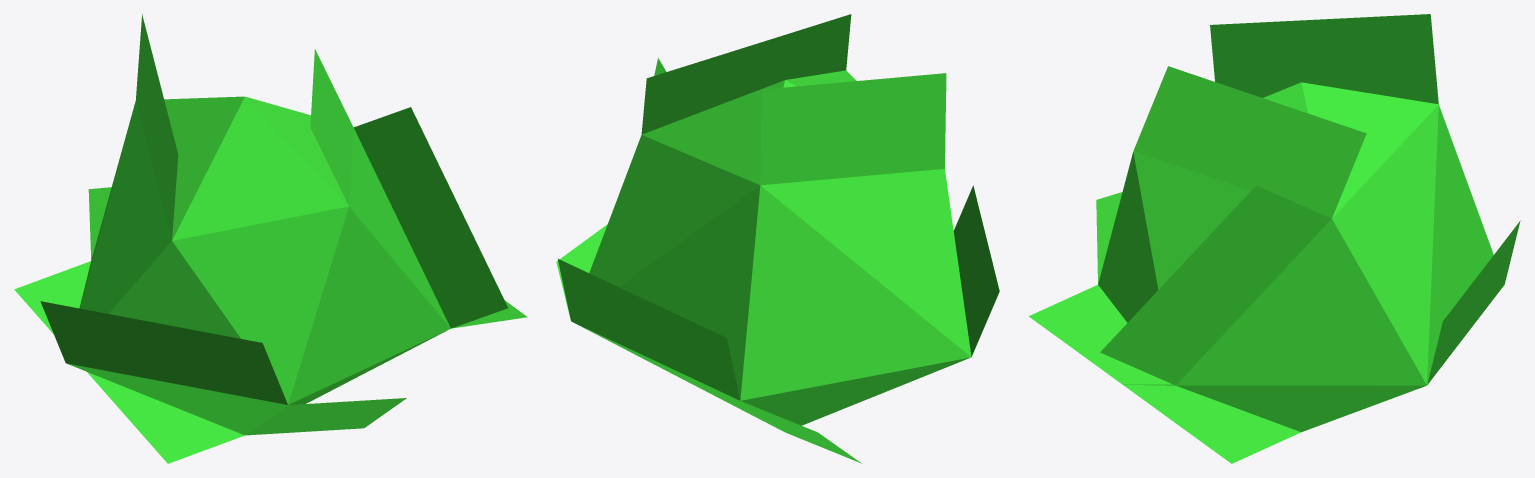
File: Cabbage.fbx
3 views of the same model, side by side, from view 1: azimuth 30°, elevation 25°; view 2: azimuth 150°, elevation 25°; view 3: azimuth 270°, elevation 25° (orthographic). The views are drawn at different scales.
Parts seen in each view (by area): view 1: Icosphere; view 2: Icosphere; view 3: Icosphere.
Boxes of the visible parts, x1,y1,x2,y2 form: Icosphere: (14,14,527,463); Icosphere: (556,14,999,463); Icosphere: (1028,14,1520,463).
Size of the model in its own units: 198 by 189 by 206.
